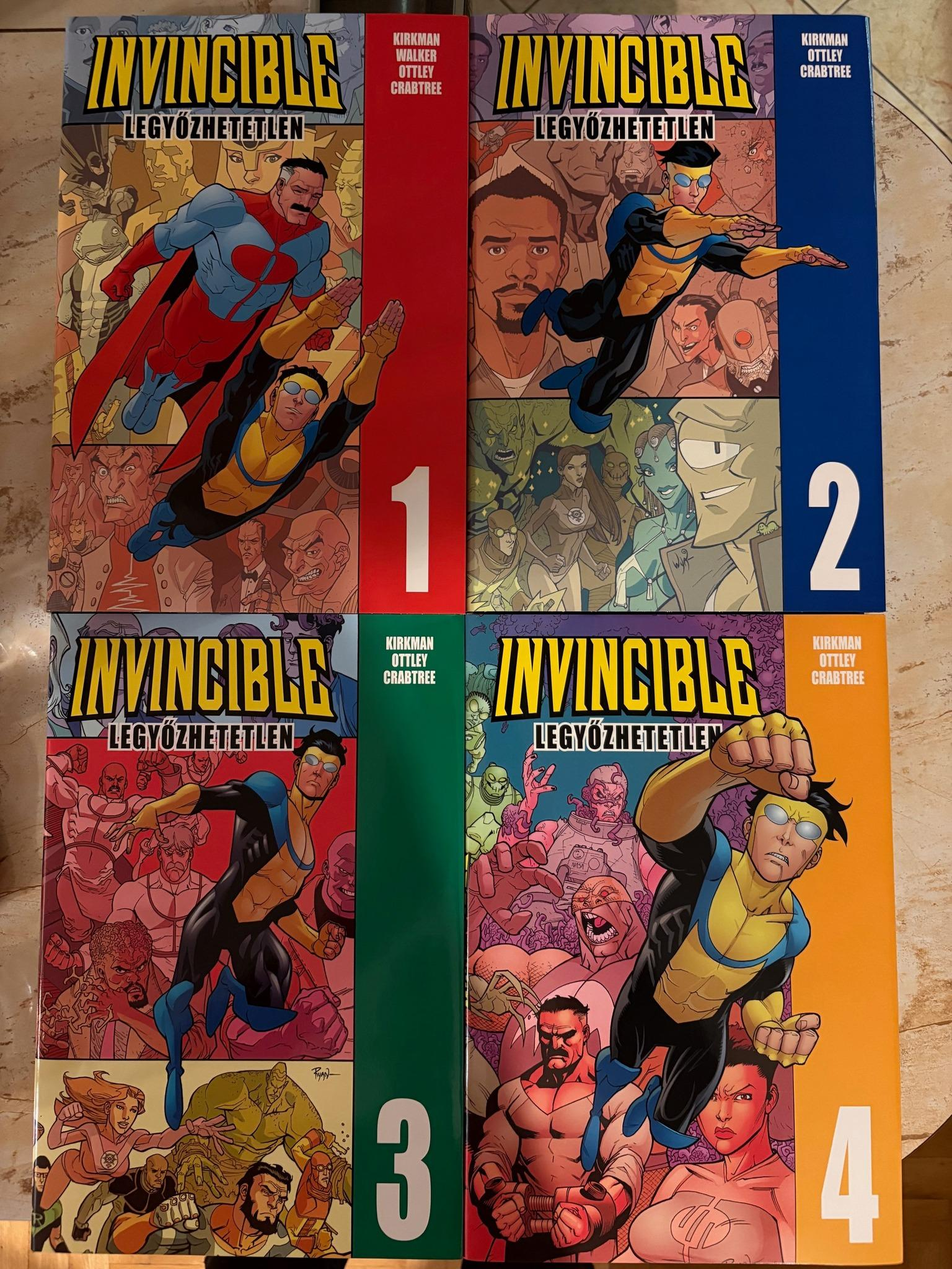comic: (32, 11, 472, 1259), (465, 614, 901, 1263), (48, 12, 467, 615), (468, 13, 885, 613)
